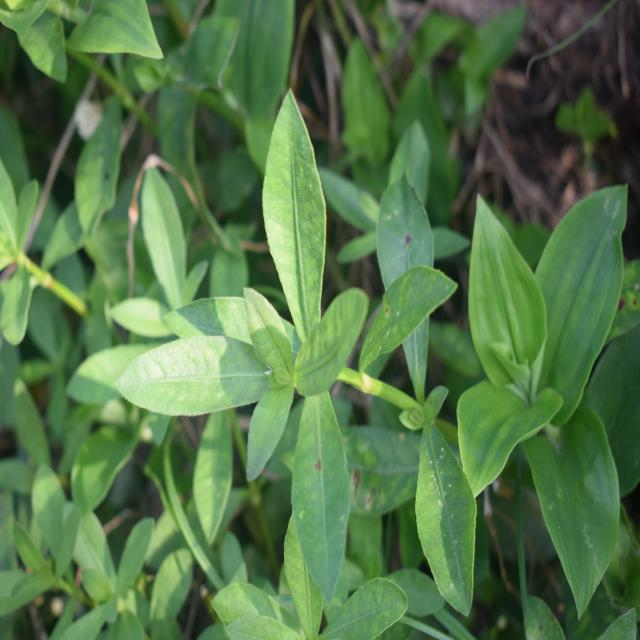Alligatorweed: (135, 121, 476, 581)
